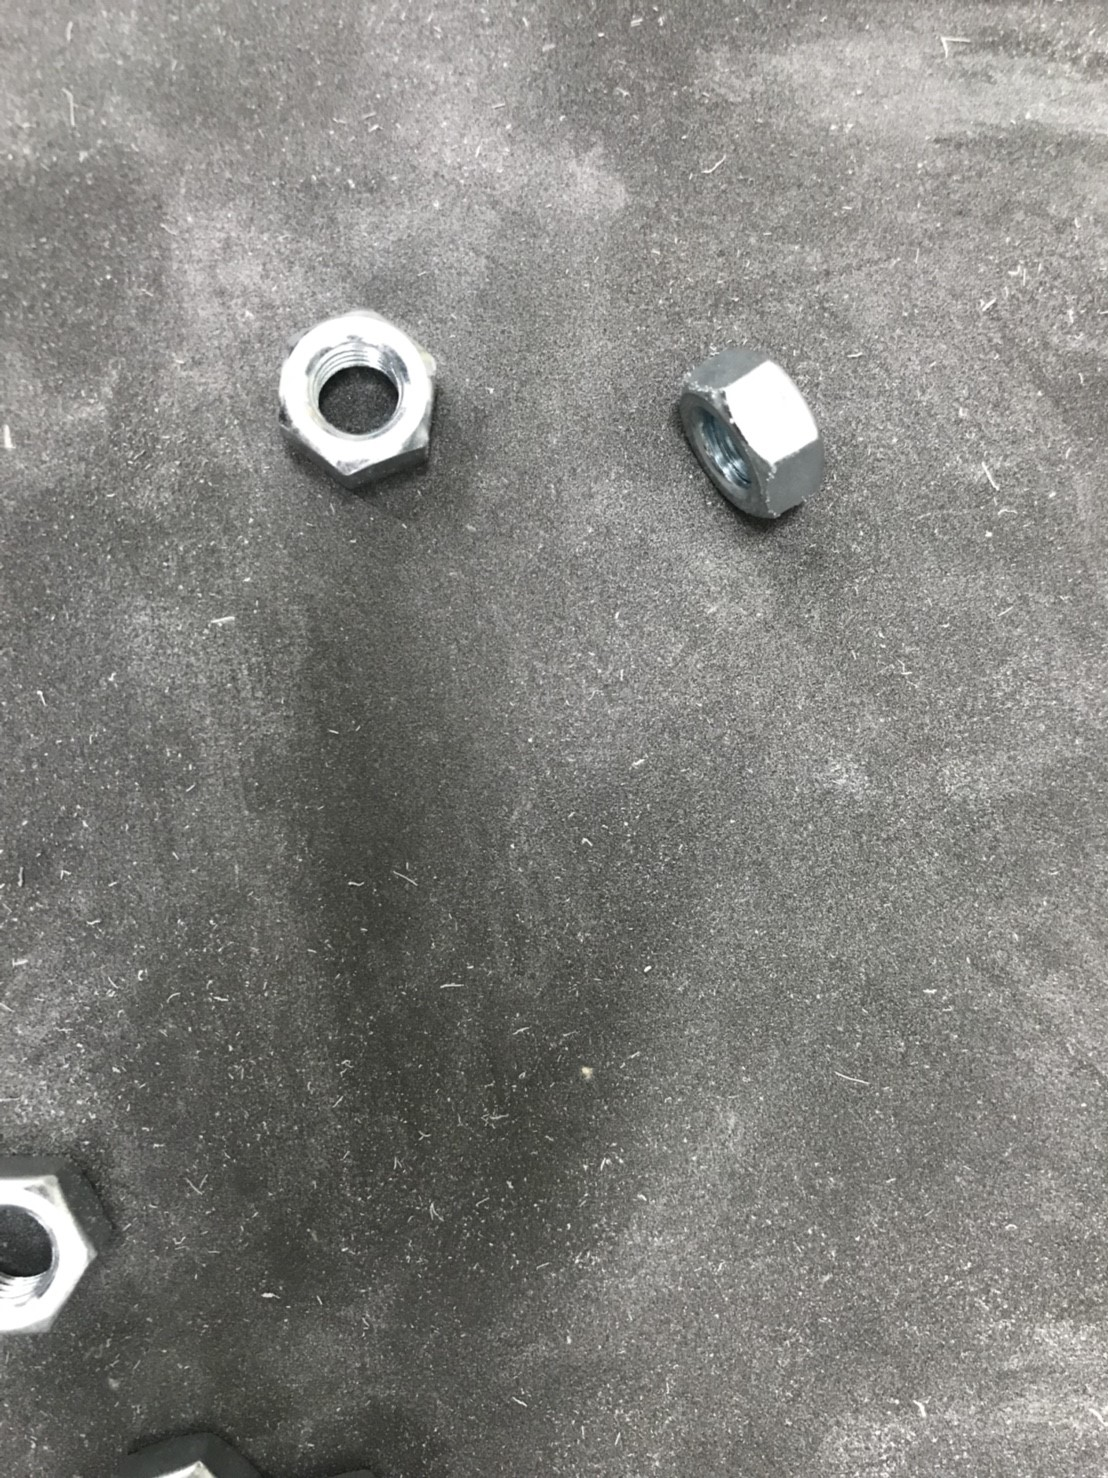nut: (665, 340, 841, 527), (274, 308, 443, 486)
